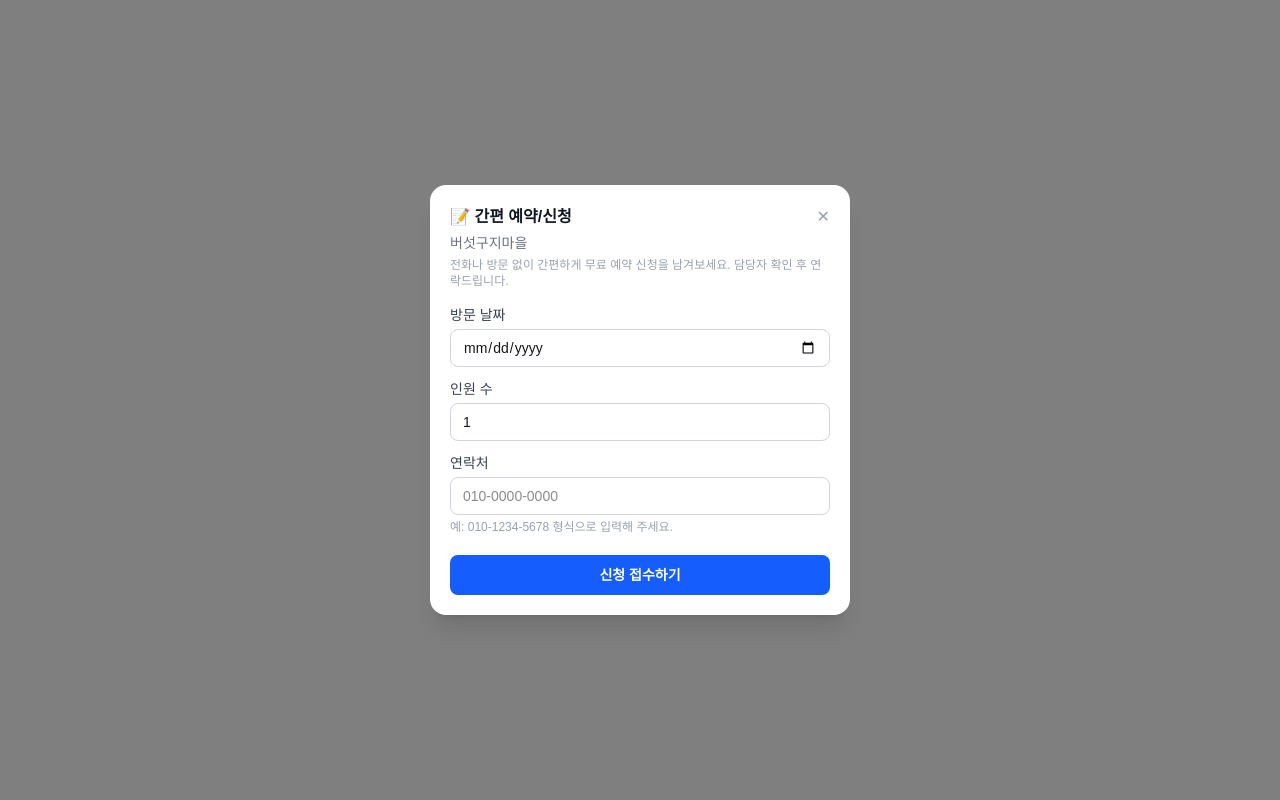
Test: ReservationRequestModal › 인원 수를 0으로 입력하면 구체적인 안내 메시지를 보여준다(자동으로 되돌리지 않고 입력값을 그대로 보여줌)
This screenshot has width=1280, height=800.
Type "2099-01-01" into the date field labelled "방문 날짜". click: (640, 348)
box: 450,329 -> 830,367
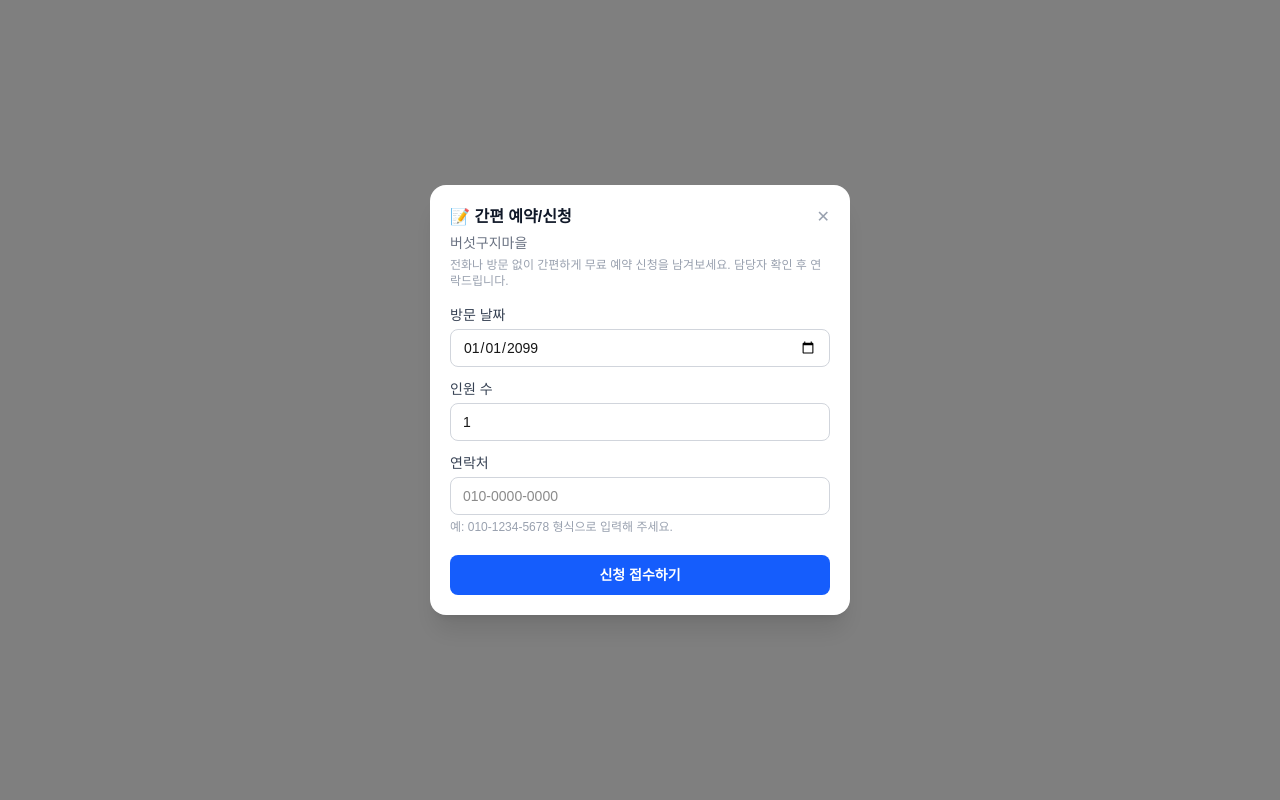
Replace the text in the number field labelled "인원 수" with "0". click: (640, 422)
box: 450,403 -> 830,441
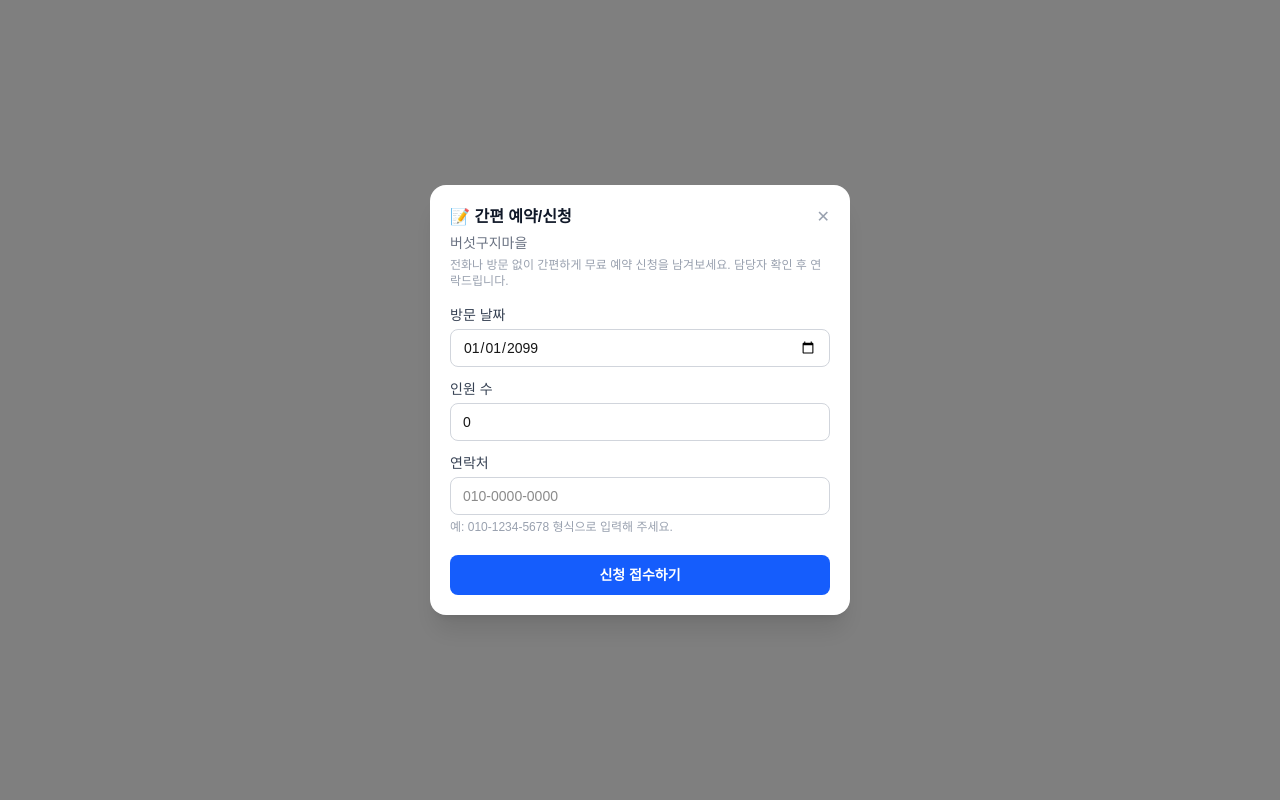
Type "010-1234-5678" into the field labelled "연락처". click: (640, 496)
box: 450,477 -> 830,515
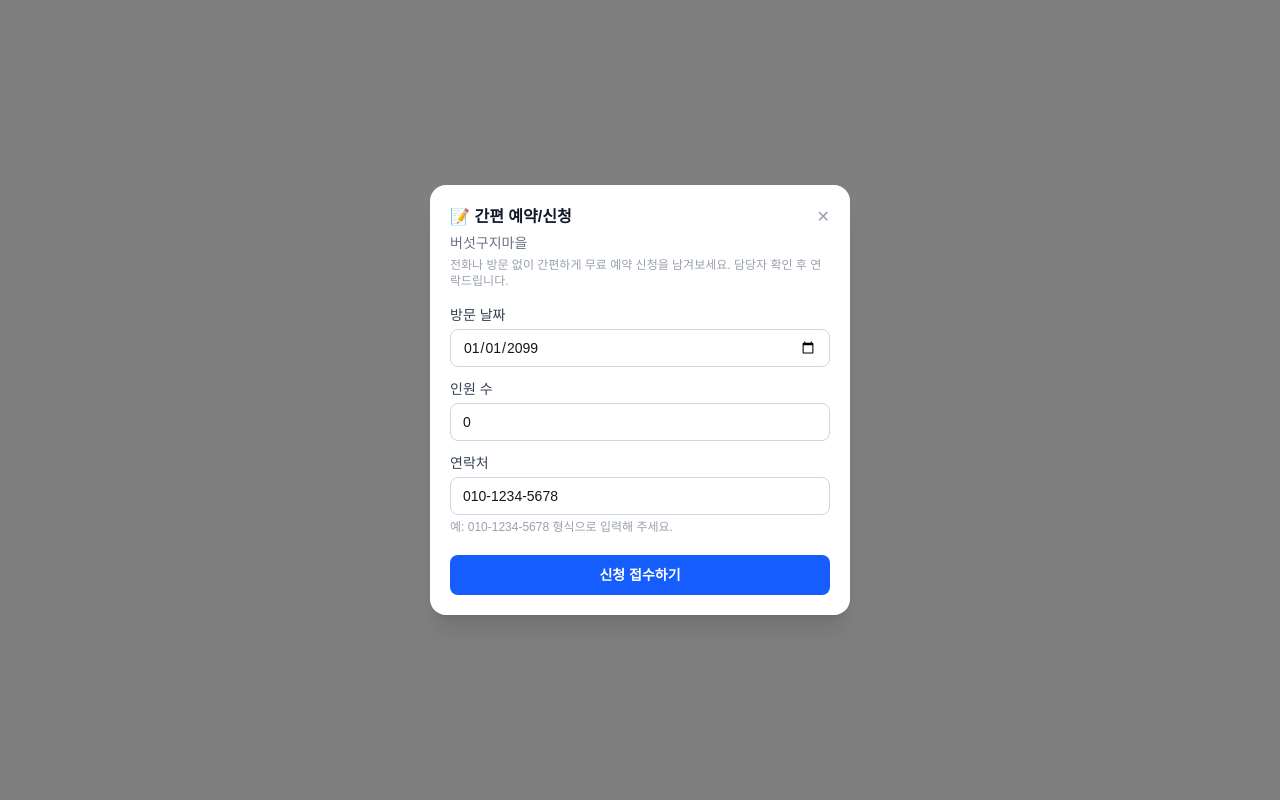
Submit the text "신청 접수하기", box 450,305 -> 830,595
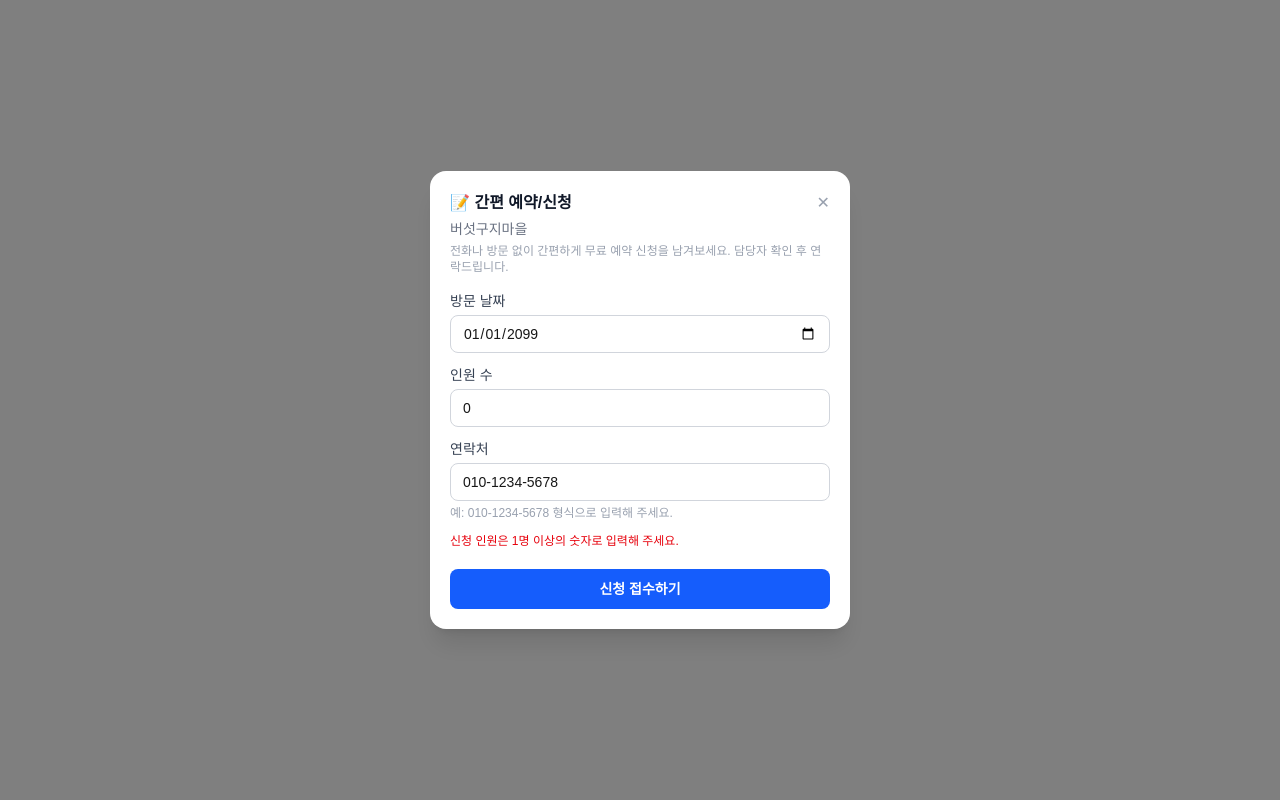
Expected: the text "신청 인원은 1명 이상의 숫자로 입력해 주세요." is shown, 450,534 -> 679,548
